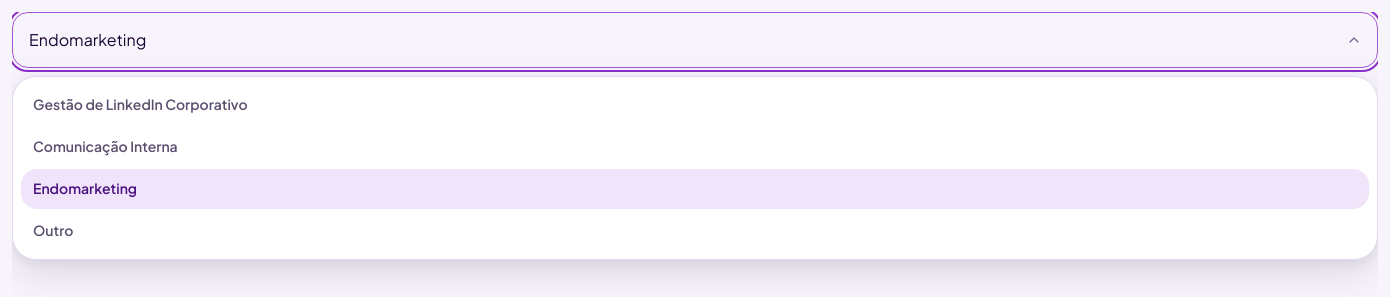
BaseCombobox › Esc fecha a lista e reverte o texto digitado, mantendo o foco no campo
Replace the text in the dropdown with "texto sem correspondência" at (695, 40), box [12,12,1378,68]
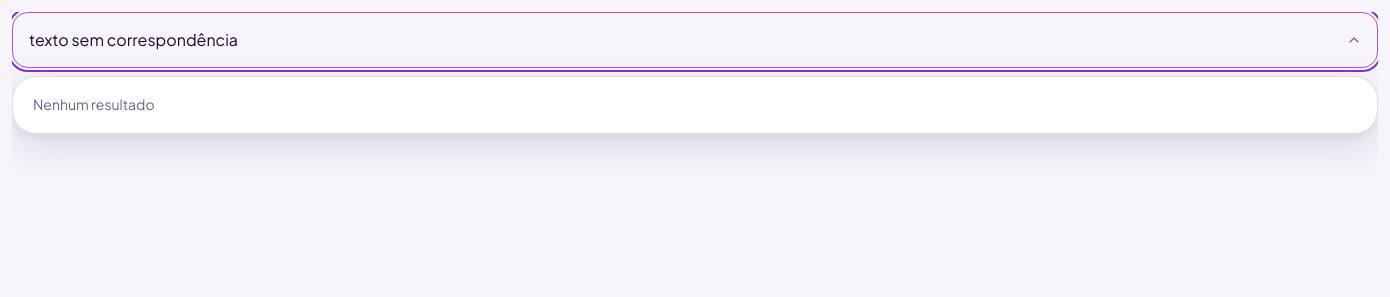
Press Escape in the dropdown, box [12,12,1378,68]
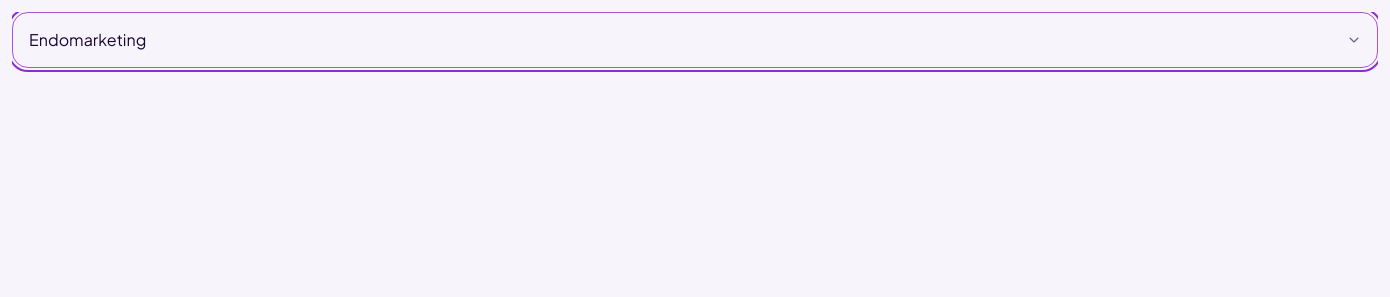
Now the dropdown holds "Endomarketing", box [12,12,1378,68]
